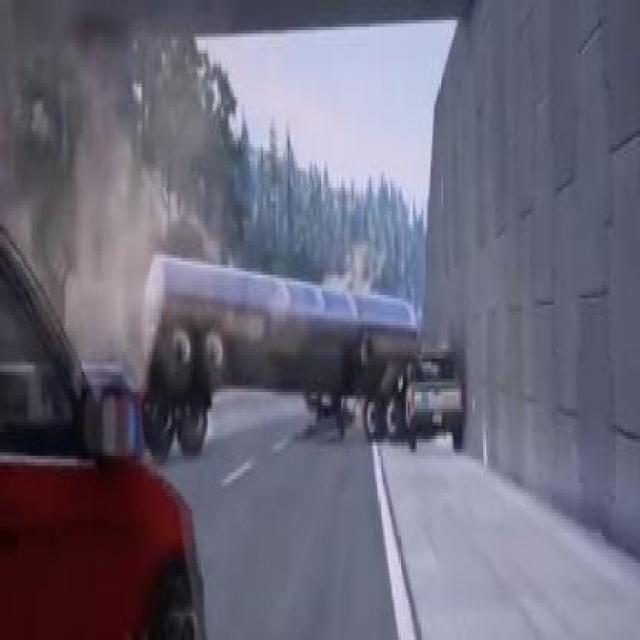accident: (125, 225, 480, 472)
